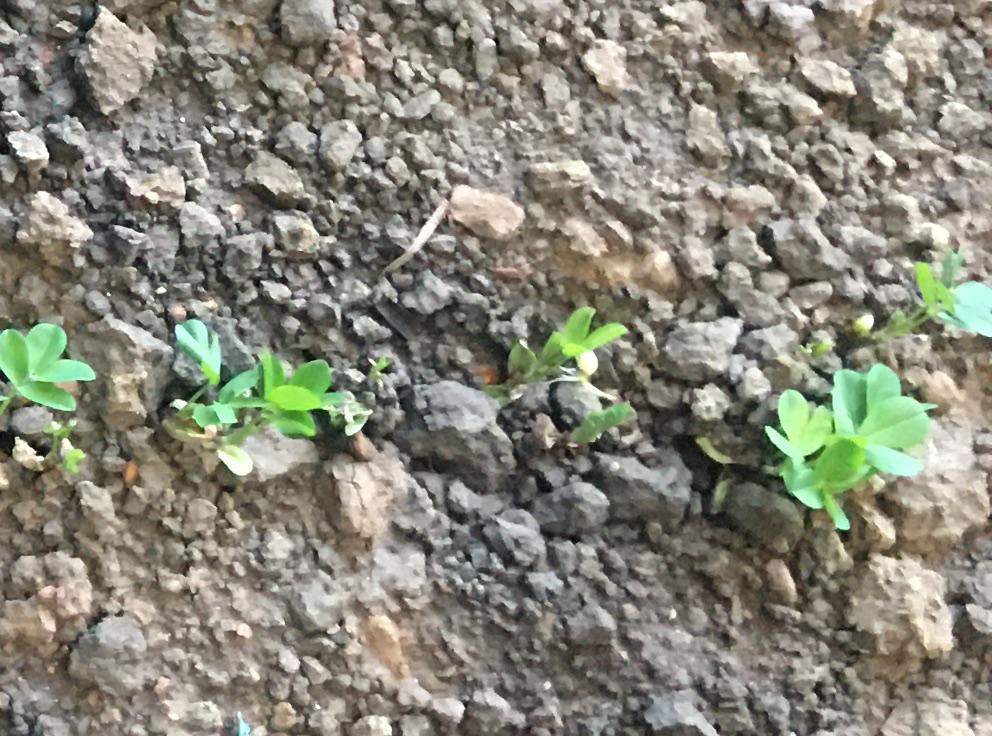block: (854, 550, 959, 670), (404, 376, 519, 480), (67, 6, 163, 114), (61, 616, 147, 692)
